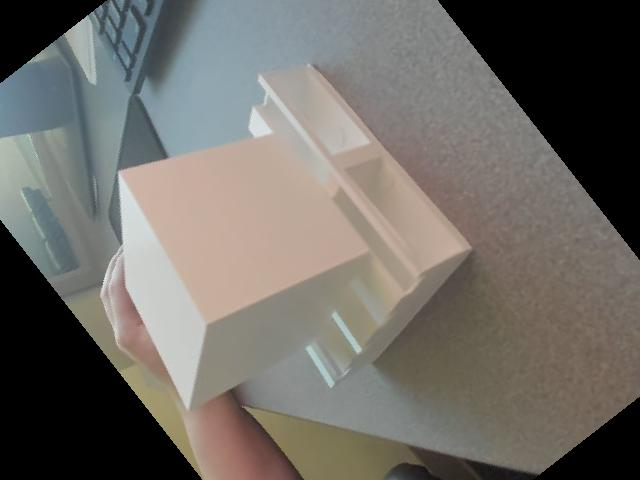white pallet: (95, 54, 486, 412)
